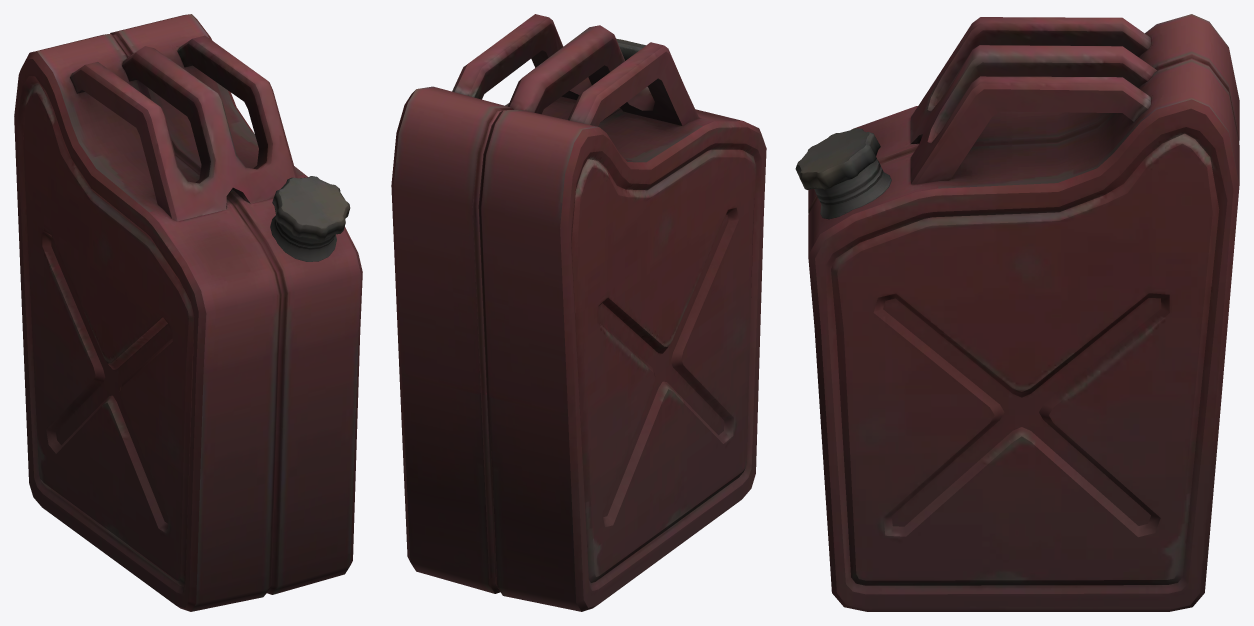
The picture shows the model from 3 angles, left to right: view 1: azimuth 30°, elevation 25°; view 2: azimuth 150°, elevation 25°; view 3: azimuth 270°, elevation 25°; orthographic projection. The views are drawn at different scales.
Visible parts, largest first — view 1: body0_model0_lod0_mesh0; view 2: body0_model0_lod0_mesh0; view 3: body0_model0_lod0_mesh0.
Boxes of the visible parts, left/top/right/bottom form: body0_model0_lod0_mesh0: left=14, top=14, right=362, bottom=611; body0_model0_lod0_mesh0: left=391, top=14, right=766, bottom=611; body0_model0_lod0_mesh0: left=795, top=14, right=1239, bottom=611.
Bounding box in the file's own units: 12.63 × 34.19 × 26.1.
Materials: 1 (1 with a texture image).
